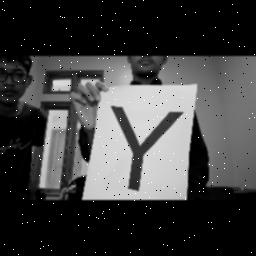y: (106, 104, 188, 196)
